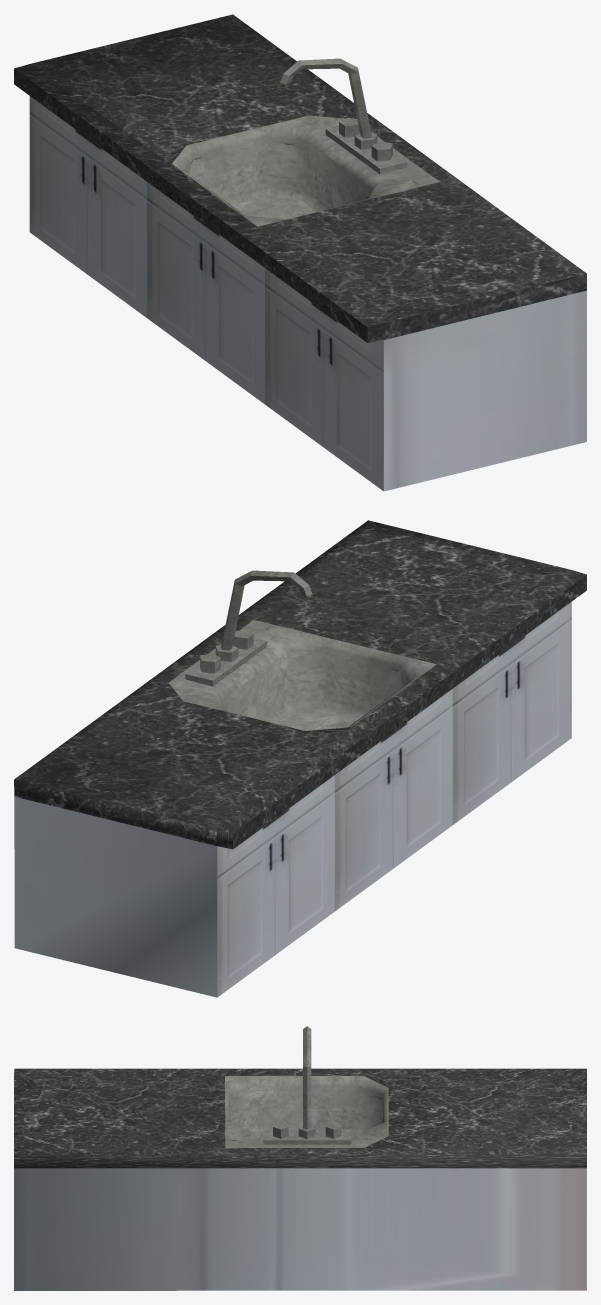
Rendered from break_room_counter.gltf.
3 renders of one model, top to bottom at view 1: azimuth 30°, elevation 25°; view 2: azimuth 150°, elevation 25°; view 3: azimuth 270°, elevation 25°, orthographic. The views are drawn at different scales.
Parts seen in each view (by area): view 1: Kitchen; view 2: Kitchen; view 3: Kitchen.
Boxes of the visible parts, x1,y1,x2,y2 form: Kitchen: (14,14,586,491); Kitchen: (14,520,586,997); Kitchen: (14,1026,586,1290).
Size of the model in its own units: 1.25 by 1.5 by 3.5.
3 materials, 3 textured.
